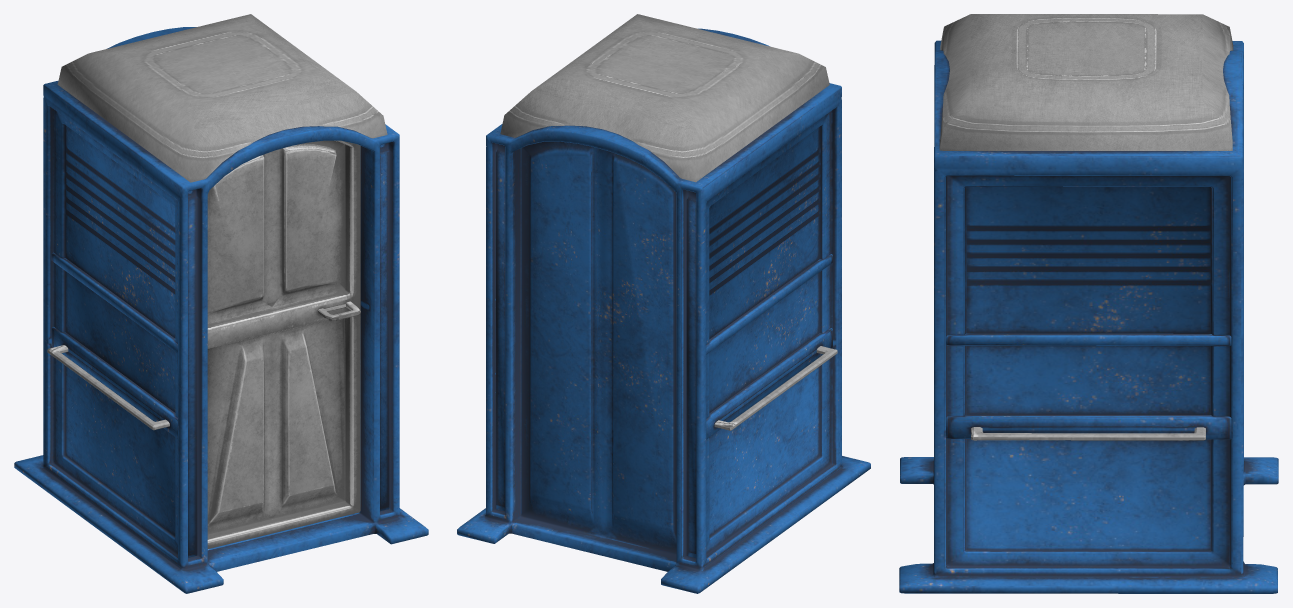
The model's file is puestoBano.obj.
The picture shows the model from 3 angles, left to right: view 1: azimuth 30°, elevation 25°; view 2: azimuth 150°, elevation 25°; view 3: azimuth 270°, elevation 25°; orthographic projection. The views are drawn at different scales.
Parts seen in each view (by area): view 1: Toilet, Door_Hang, Toilet_Top; view 2: Toilet, Toilet_Top; view 3: Toilet, Toilet_Top.
Part boxes in pixels (box(x1,y1,x2,y2)): Toilet: box(14, 27, 428, 593); Door_Hang: box(207, 140, 360, 548); Toilet_Top: box(57, 14, 387, 182); Toilet: box(457, 28, 870, 593); Toilet_Top: box(500, 14, 829, 182); Toilet: box(899, 40, 1278, 593); Toilet_Top: box(939, 14, 1233, 150).
Size of the model in its own units: 6.7 by 11.49 by 8.23.
